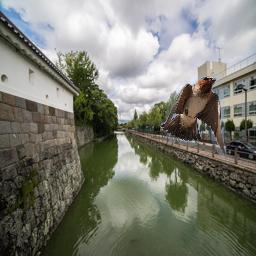Swallow: (161, 76, 226, 157)
